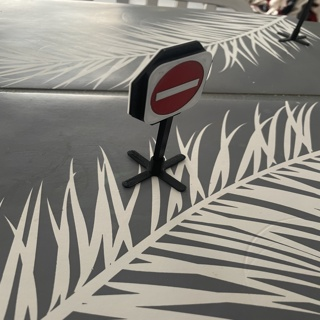sign_noentry: (142, 51, 211, 125)
